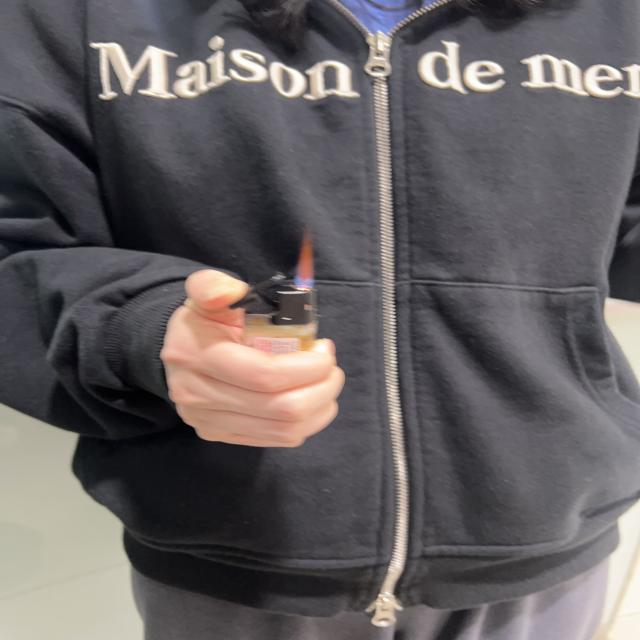fire: (296, 228, 316, 288)
